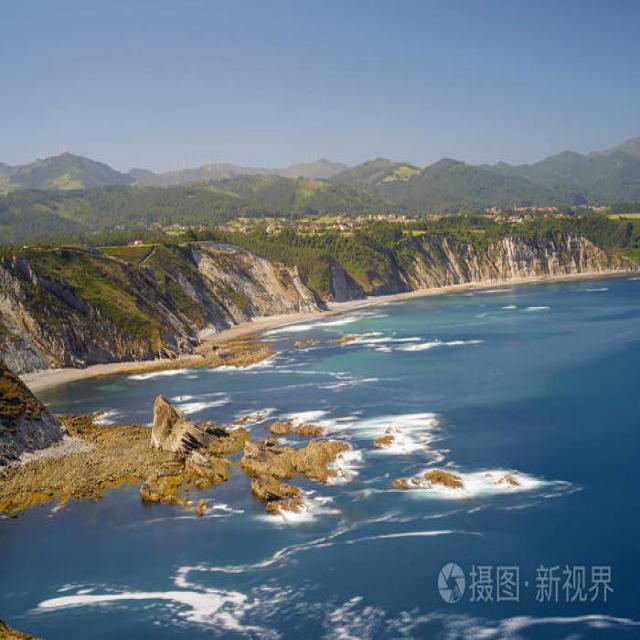reef: (75, 378, 369, 544)
